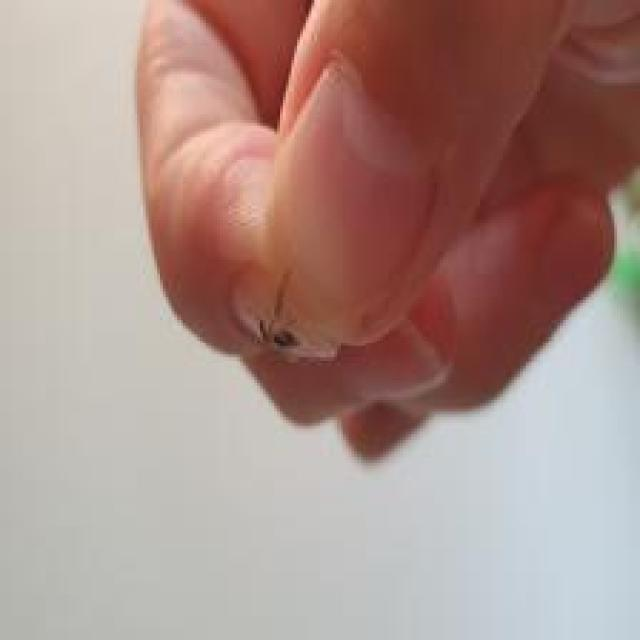Culex: (134, 0, 640, 463)
